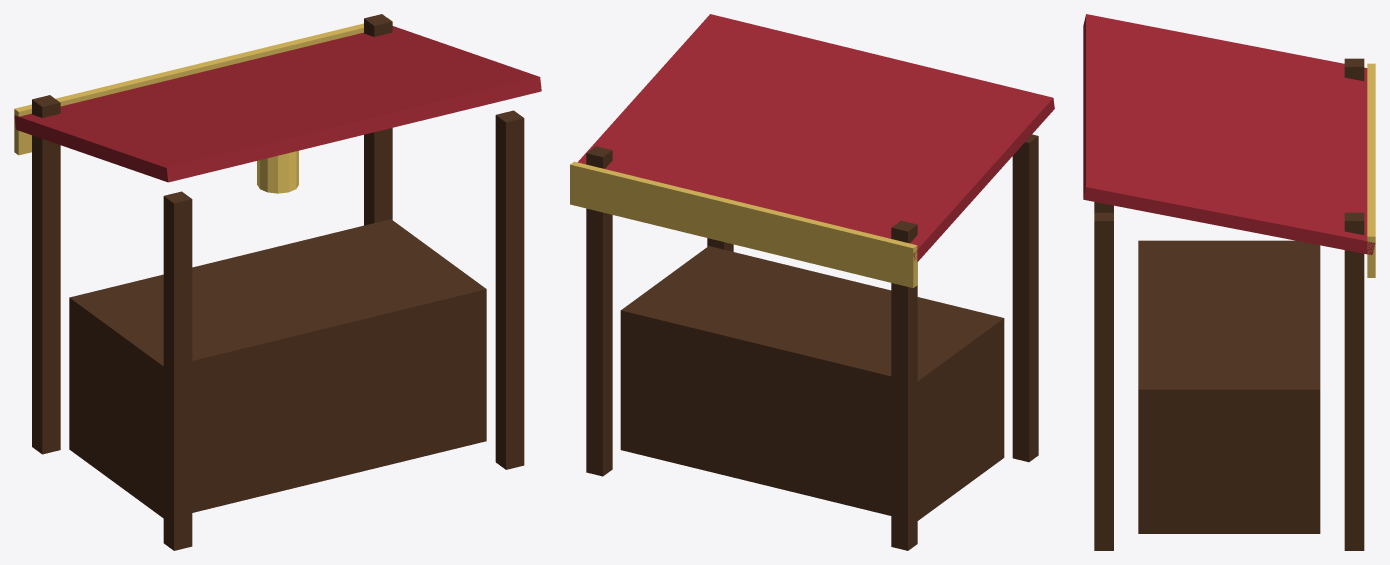
The model's file is merchant_stall_luxury.obj.
3 views of the same model, side by side, from view 1: azimuth 30°, elevation 25°; view 2: azimuth 150°, elevation 25°; view 3: azimuth 270°, elevation 25° (orthographic). The views are drawn at different scales.
Parts seen in each view (by area): view 1: Cube.004, Cube.005, Cube, Cube.001, Cube.002, Cube.006, Cube.003, Cylinder; view 2: Cube.004, Cube.005, Cube.006, Cube, Cube.002, Cube.003; view 3: Cube.004, Cube.005, Cube.001, Cube.003, Cube.006, Cube.002.
Boxes of the visible parts, x1,y1,x2,y2 form: Cube.004: (69,219,486,518); Cube.005: (14,26,541,182); Cube: (163,191,192,550); Cube.001: (495,110,524,469); Cube.002: (32,95,60,454); Cube.006: (14,17,391,155); Cube.003: (364,14,392,225); Cylinder: (257,150,298,193); Cube.004: (620,246,1004,520); Cube.005: (578,14,1054,264); Cube.006: (570,161,917,287); Cube: (1012,134,1038,462); Cube.002: (891,220,917,550); Cube.003: (586,146,612,476); Cube.004: (1138,240,1320,533); Cube.005: (1083,14,1375,254); Cube.001: (1094,212,1113,550); Cube.003: (1344,212,1364,550); Cube.006: (1367,63,1375,277); Cube.002: (1344,58,1364,81).
Size of the model in its own units: 7.2 by 7.16 by 5.14.
